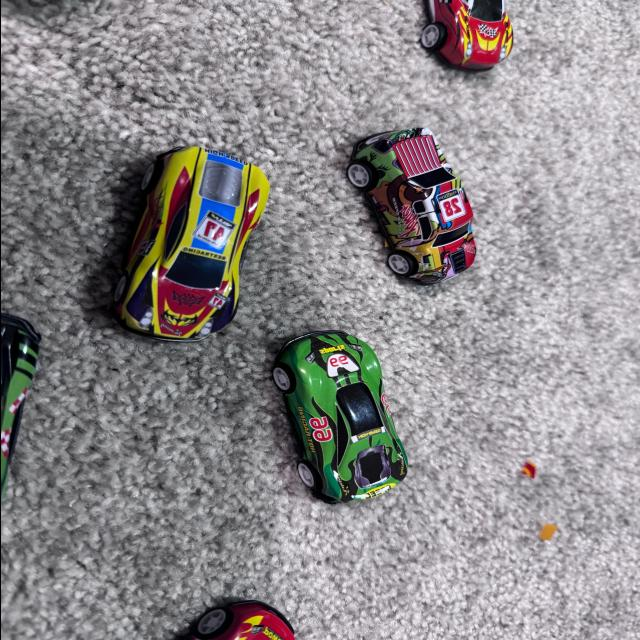car: (238, 308, 476, 523), (100, 112, 292, 360), (338, 123, 512, 310), (354, 0, 540, 98)
